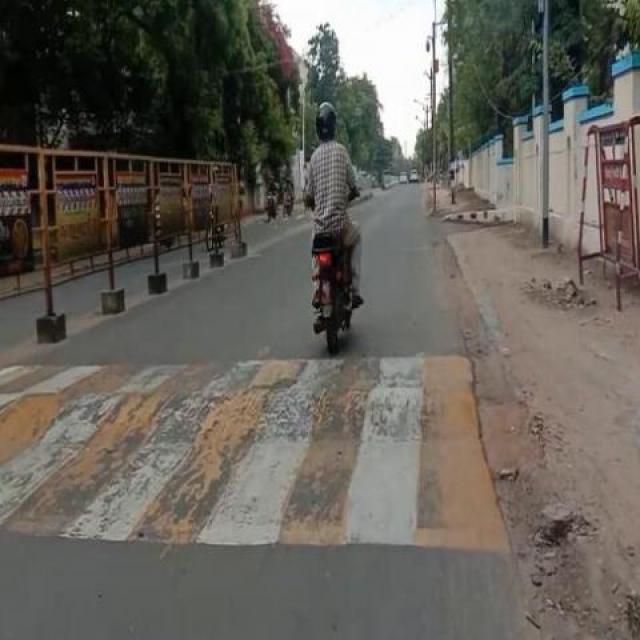Speed Bump: (1, 353, 512, 552)
